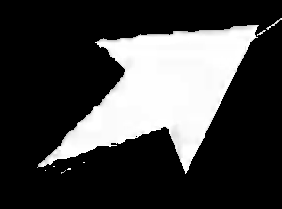Plane: (25, 20, 262, 181)
